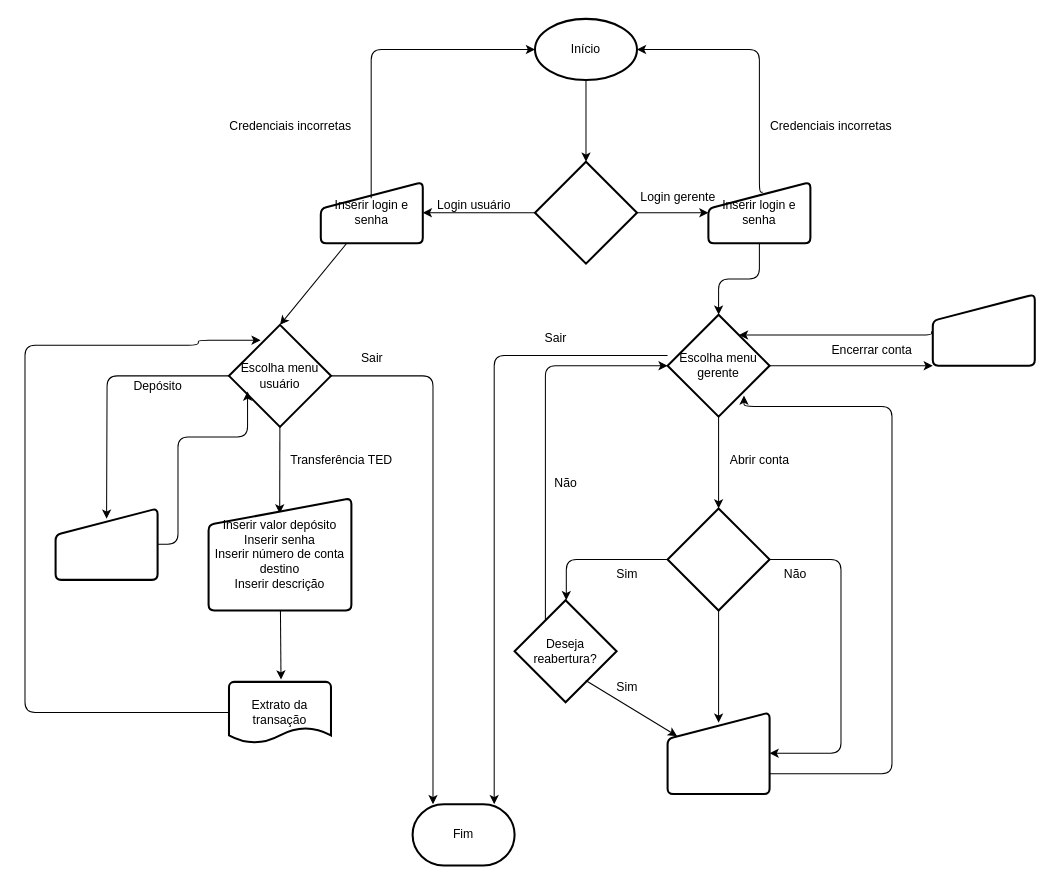
The diagram is 1054 pixels wide and 883 high, and some of its shapes have lost their labels. Each missing label, with the box of its shape:
Conta encerrada?: (666, 507, 770, 611)
CPF Senha Nome: (666, 711, 770, 795)
Inserir CPF Inserir senha: (931, 293, 1035, 366)
Inserir valor depósito: (54, 507, 158, 580)
Login Usuário Login Gerente: (533, 160, 638, 264)
